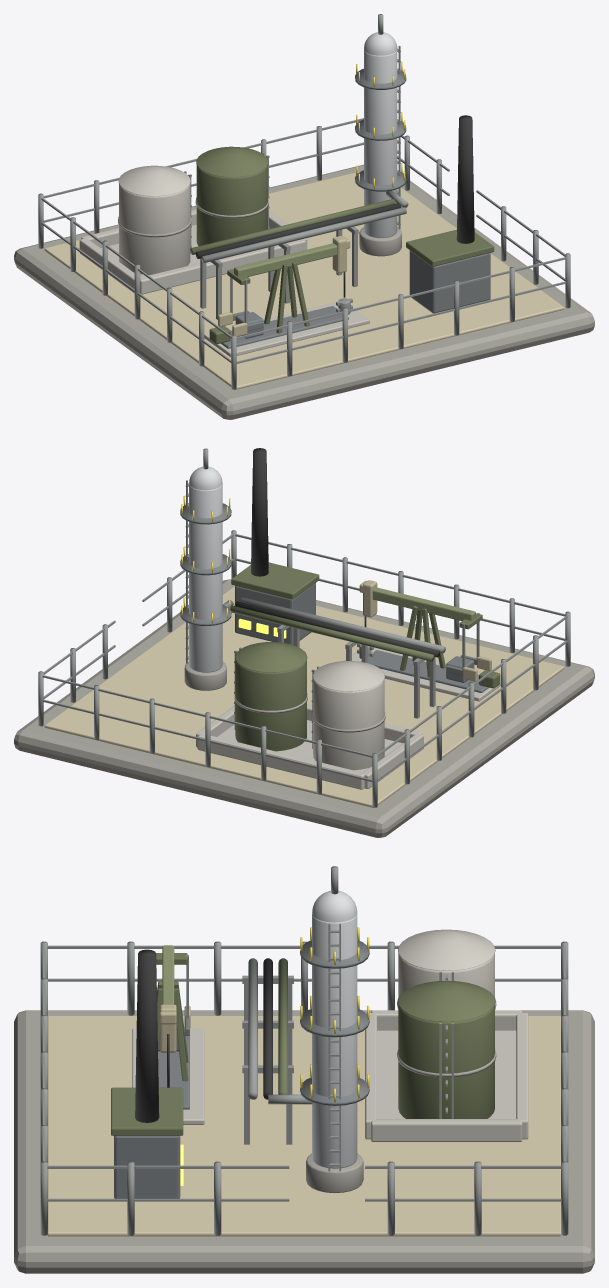
Rendered from oilwell_7.glb.
The picture shows the model from 3 angles, top to bottom: view 1: azimuth 30°, elevation 25°; view 2: azimuth 150°, elevation 25°; view 3: azimuth 270°, elevation 25°; orthographic projection. The views are drawn at different scales.
Visible parts, largest first — view 1: Cube.001, Cube, Cylinder.002, Cylinder.010, Cylinder.004, Cube.076, Cube.024, Cone.002, Cube.077, Cone, Cone.001, Cube.002 (+13 smaller); view 2: Cube.001, Cube, Cylinder.010, Cylinder.004, Cylinder.002, Cube.023, Cone.002, Cube.076, Cube.077, Cone, Cone.001, Cylinder.008 (+14 smaller); view 3: Cube.001, Cube, Cylinder.010, Cylinder.004, Cube.022, Cube.076, Cone.002, Cube.025, Cone, Cone.001, Cube.077, Cube.002 (+34 smaller).
Boxes of the visible parts, box(x1,y1,x2,y2) form: Cube.001: box(44, 171, 564, 389); Cube: box(14, 164, 594, 419); Cylinder.002: box(119, 184, 190, 274); Cylinder.010: box(364, 50, 397, 238); Cylinder.004: box(196, 165, 267, 245); Cube.076: box(409, 250, 490, 313); Cube.024: box(140, 239, 305, 294); Cone.002: box(456, 115, 474, 243); Cube.077: box(406, 229, 494, 266); Cone: box(118, 165, 190, 196); Cone.001: box(196, 146, 268, 177); Cube.002: box(204, 302, 369, 357); Cube.001: box(44, 586, 564, 807); Cube: box(14, 579, 594, 837); Cylinder.010: box(189, 484, 222, 672); Cylinder.004: box(235, 660, 306, 751); Cylinder.002: box(313, 679, 384, 770); Cube.023: box(197, 734, 364, 789); Cone.002: box(251, 448, 268, 576); Cube.076: box(235, 583, 315, 645); Cube.077: box(231, 562, 319, 599); Cone: box(312, 661, 384, 691); Cone.001: box(235, 642, 307, 672); Cylinder.008: box(230, 605, 434, 661); Cube.001: box(47, 1016, 561, 1236); Cube: box(14, 1010, 594, 1273); Cylinder.010: box(312, 914, 357, 1168); Cylinder.004: box(398, 1004, 494, 1118); Cube.022: box(377, 1030, 516, 1118); Cube.076: box(114, 1135, 180, 1198); Cone.002: box(135, 949, 159, 1122); Cube.025: box(371, 1119, 522, 1141); Cone: box(398, 929, 495, 970); Cone.001: box(398, 980, 495, 1022); Cube.077: box(111, 1087, 183, 1135); Cube.002: box(132, 1028, 204, 1124).
Size of the model in its own units: 1.92 by 1.26 by 1.92.
